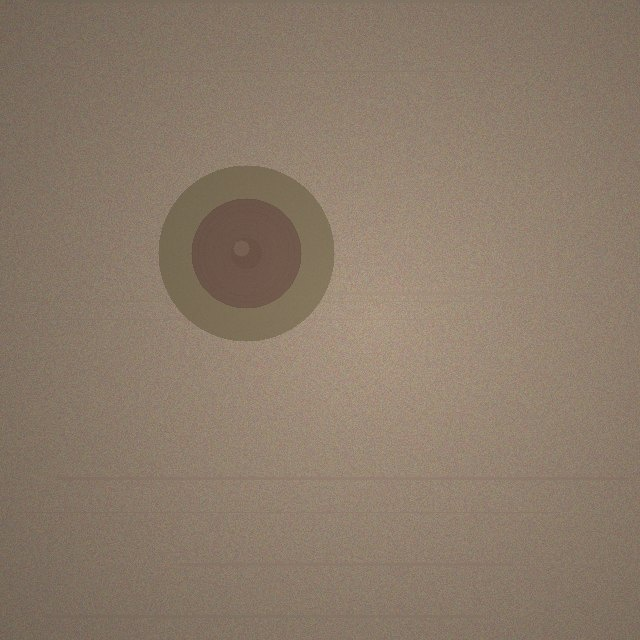good: (158, 165, 334, 341)
